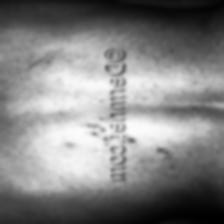Unclassified: (88, 128, 104, 140), (154, 144, 166, 156)
